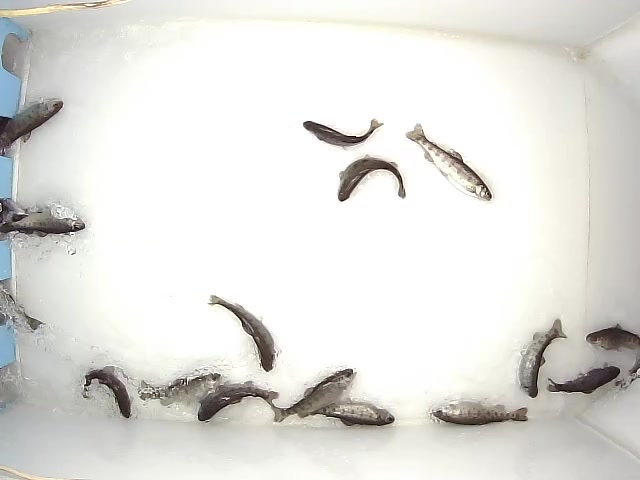fish: (402, 120, 495, 201), (206, 294, 276, 373), (271, 367, 359, 424), (515, 315, 569, 400), (333, 153, 412, 203), (195, 377, 280, 423), (300, 111, 386, 148), (429, 397, 532, 425), (82, 367, 133, 419), (139, 372, 221, 404), (312, 398, 397, 426)
